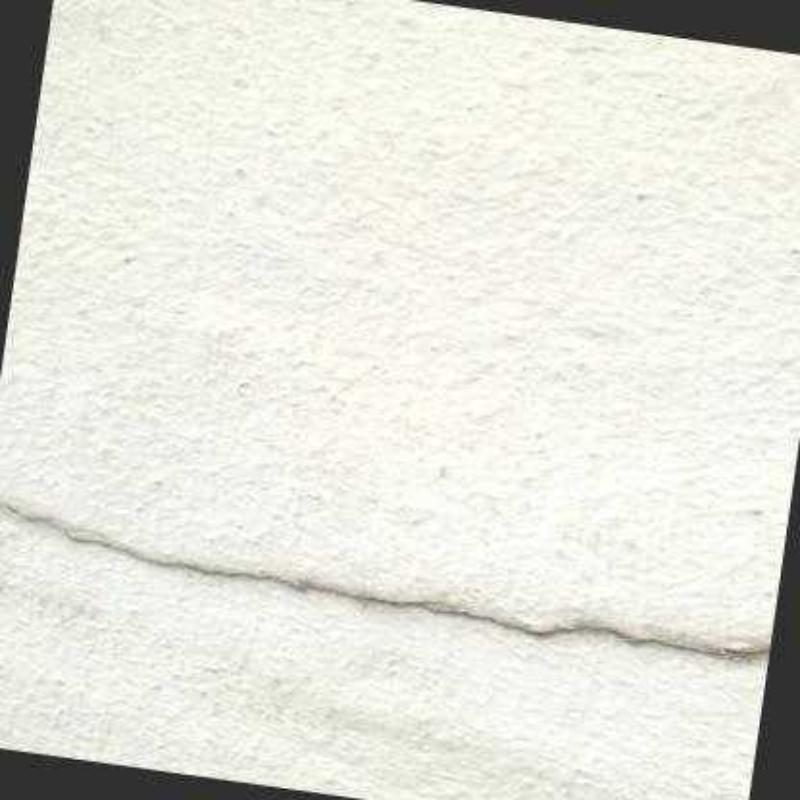pothole: (1, 503, 770, 658)
